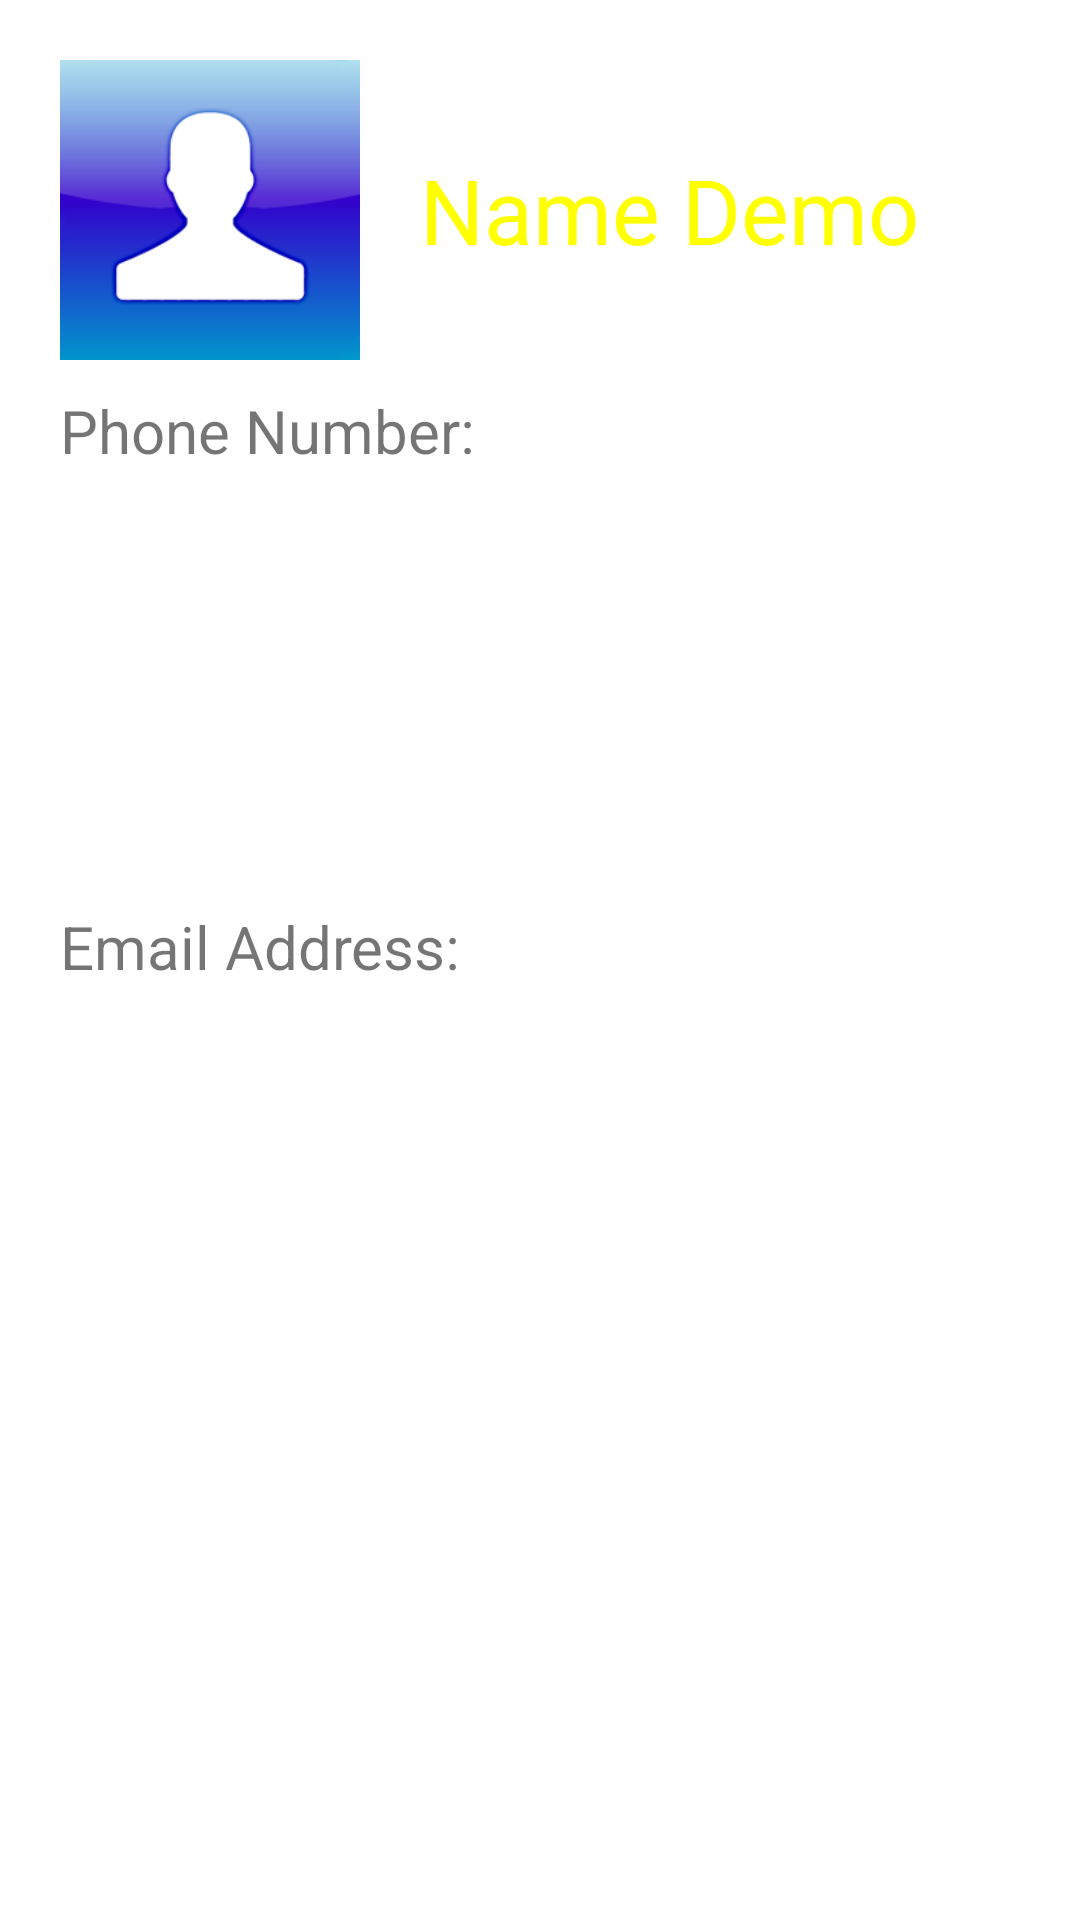

Screen size 1080px×1920px. Icon name, then its box in pixels as (left=x1, top=y1, right=x2, bottom=y2):
person: (left=60, top=60, right=360, bottom=360)
